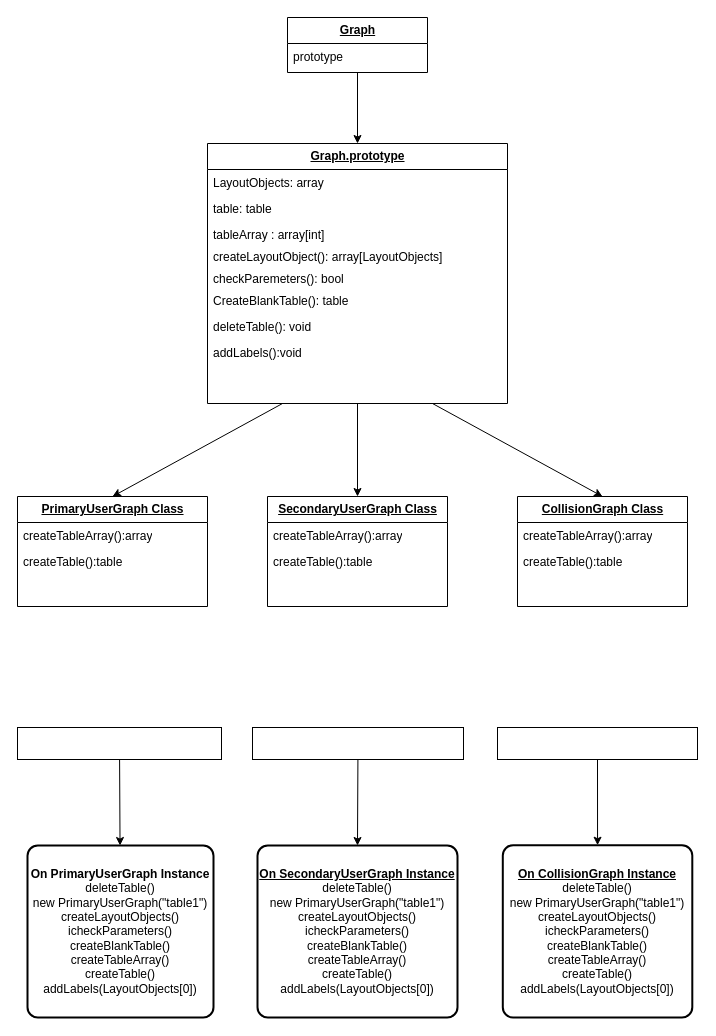
This 716x1036 diagram has some shape labels left out. Here are the shapes that lost their labels. From the top down, the centre of each, then its label:
At [119,743]: "Button: Run Primary Graph Process".
At [358,743]: "Button Run Secondary Graph Process".
At [597,743]: "Button: Run collision Graph process".
